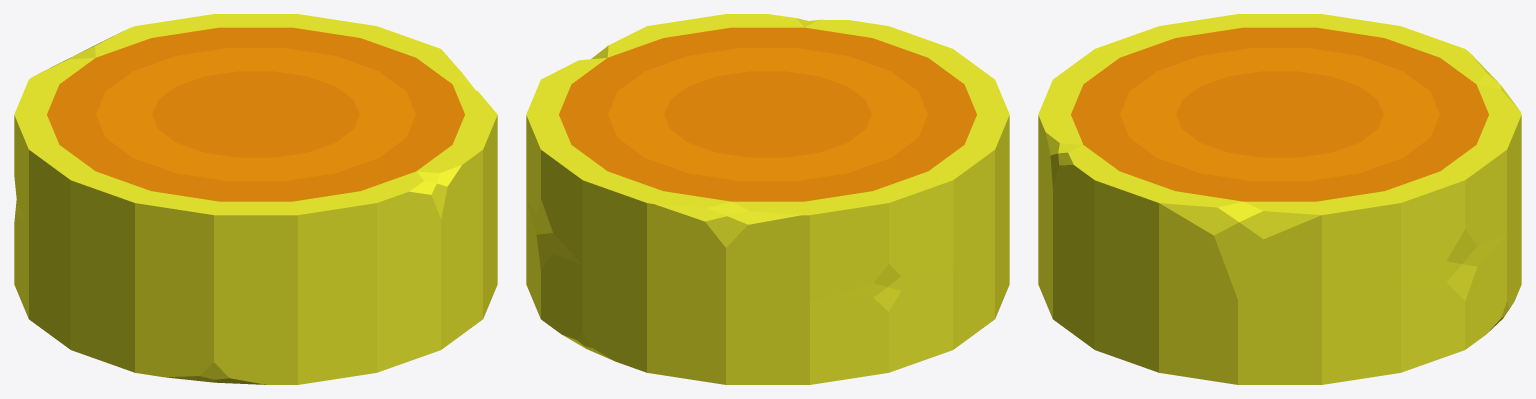
Rendered from Tree log_24.fbx.
3 renders of one model, left to right at view 1: azimuth 30°, elevation 25°; view 2: azimuth 150°, elevation 25°; view 3: azimuth 270°, elevation 25°, orthographic.
Visible parts, largest first — view 1: Circle.298; view 2: Circle.298; view 3: Circle.298.
Boxes of the visible parts, box(x1,y1,x2,y2) form: Circle.298: box(14, 14, 497, 384); Circle.298: box(526, 14, 1009, 384); Circle.298: box(1038, 14, 1521, 384).
Bounding box in the file's own units: 23.2 × 9.13 × 23.56.
